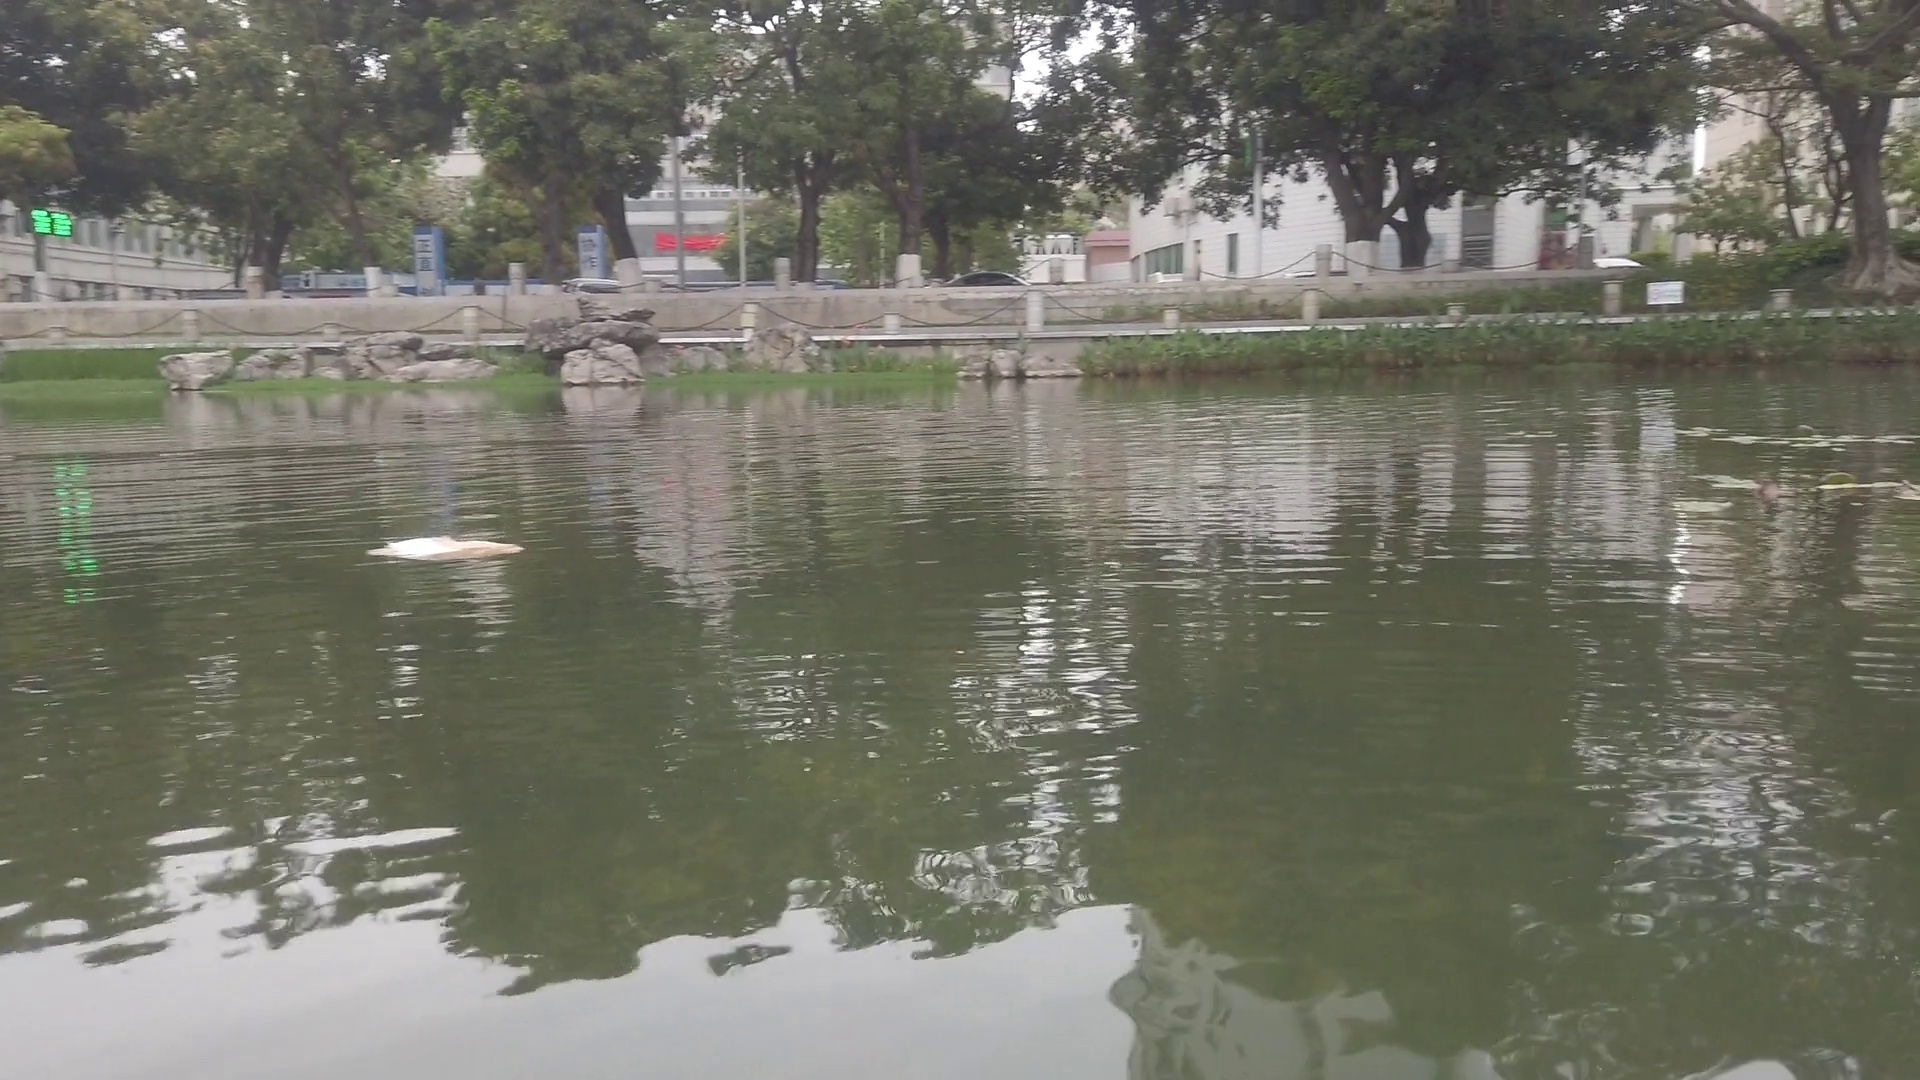paper: (375, 527, 524, 562)
